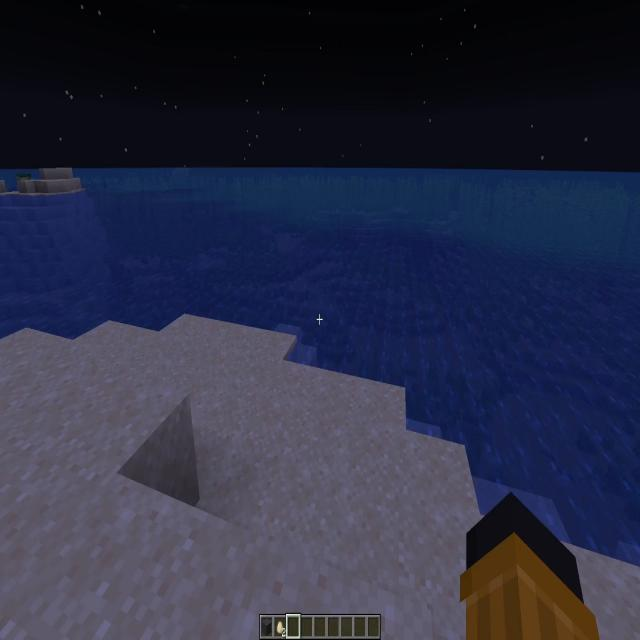Turtle: (16, 171, 30, 180)
